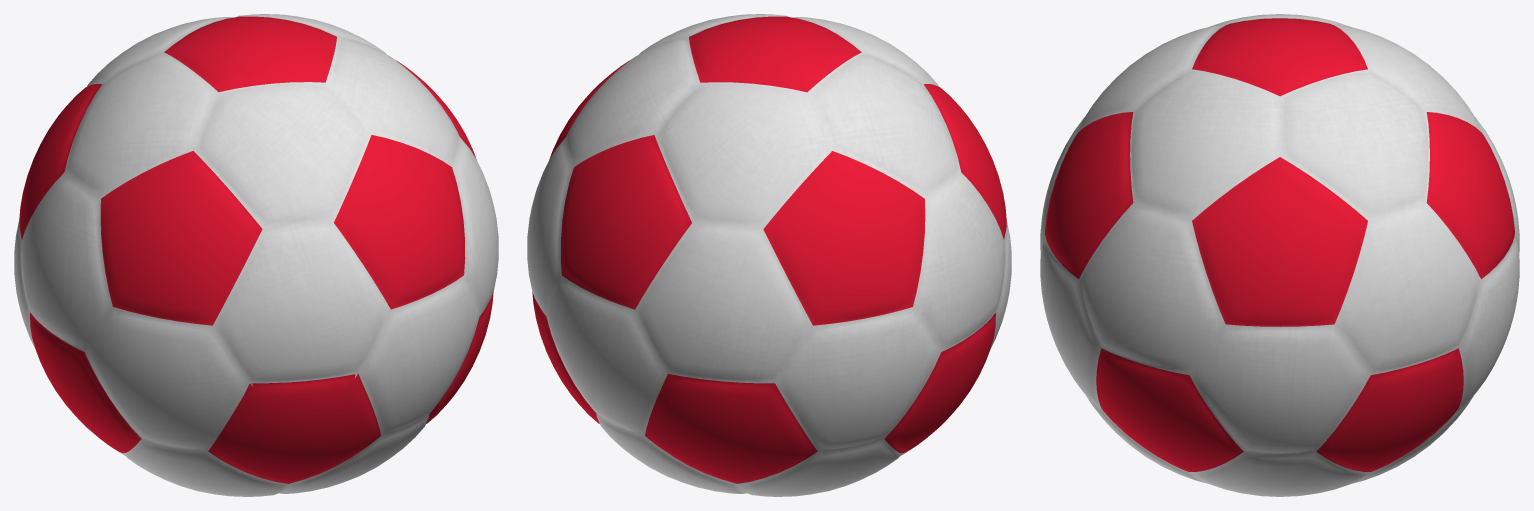
The model's file is balon.glb.
3 renders of one model, left to right at view 1: azimuth 30°, elevation 25°; view 2: azimuth 150°, elevation 25°; view 3: azimuth 270°, elevation 25°, orthographic.
Parts seen in each view (by area): view 1: Object_3, Object_2; view 2: Object_3, Object_2; view 3: Object_3, Object_2.
Part boxes in pixels (<box>): Object_3: <box>14,14,498,496</box>; Object_2: <box>19,16,493,483</box>; Object_3: <box>527,14,1011,496</box>; Object_2: <box>532,16,1006,483</box>; Object_3: <box>1040,14,1519,496</box>; Object_2: <box>1045,18,1514,471</box>.
Bounding box in the file's own units: 2.1 × 2.11 × 2.09.
2 materials, 1 textured.
